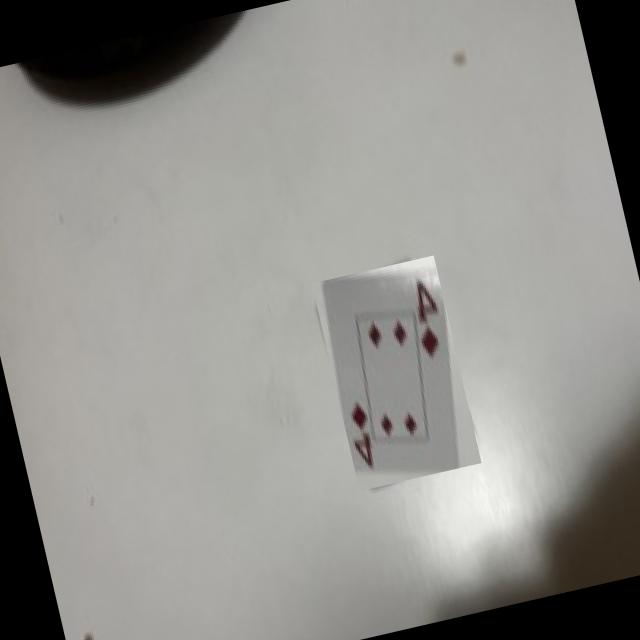4 of diamonds: (323, 268, 455, 467)
